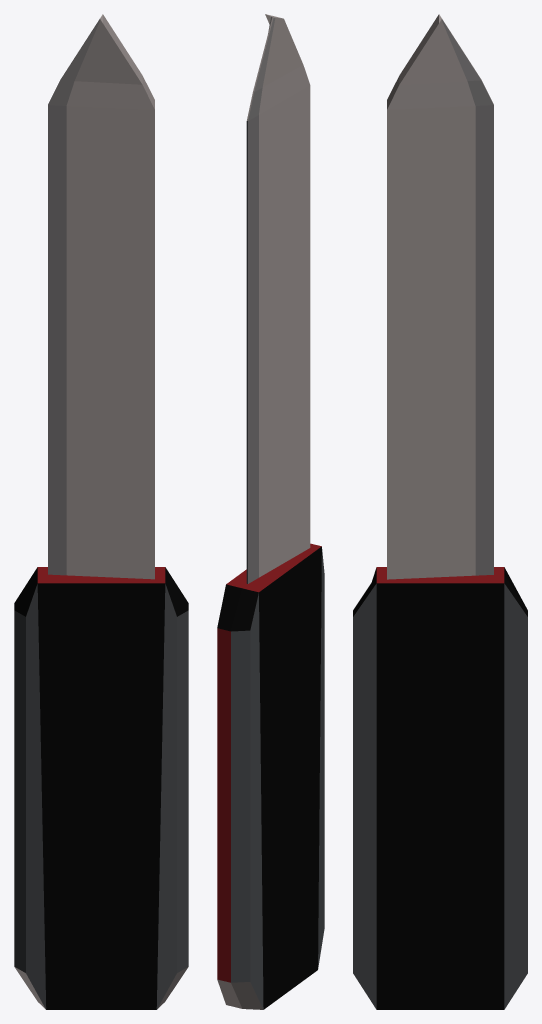
The model's file is IKinfe.fbx.
The picture shows the model from 3 angles, left to right: view 1: azimuth 90°, elevation 25°; view 2: azimuth 150°, elevation 25°; view 3: azimuth 270°, elevation 25°; orthographic projection.
Parts seen in each view (by area): view 1: Cube; view 2: Cube; view 3: Cube.
Boxes of the visible parts, left/top/right/bottom form: Cube: left=14, top=14, right=188, bottom=1009; Cube: left=217, top=14, right=324, bottom=1009; Cube: left=353, top=14, right=527, bottom=1009.
Bounding box in the file's own units: 9.34 × 260 × 41.88.
